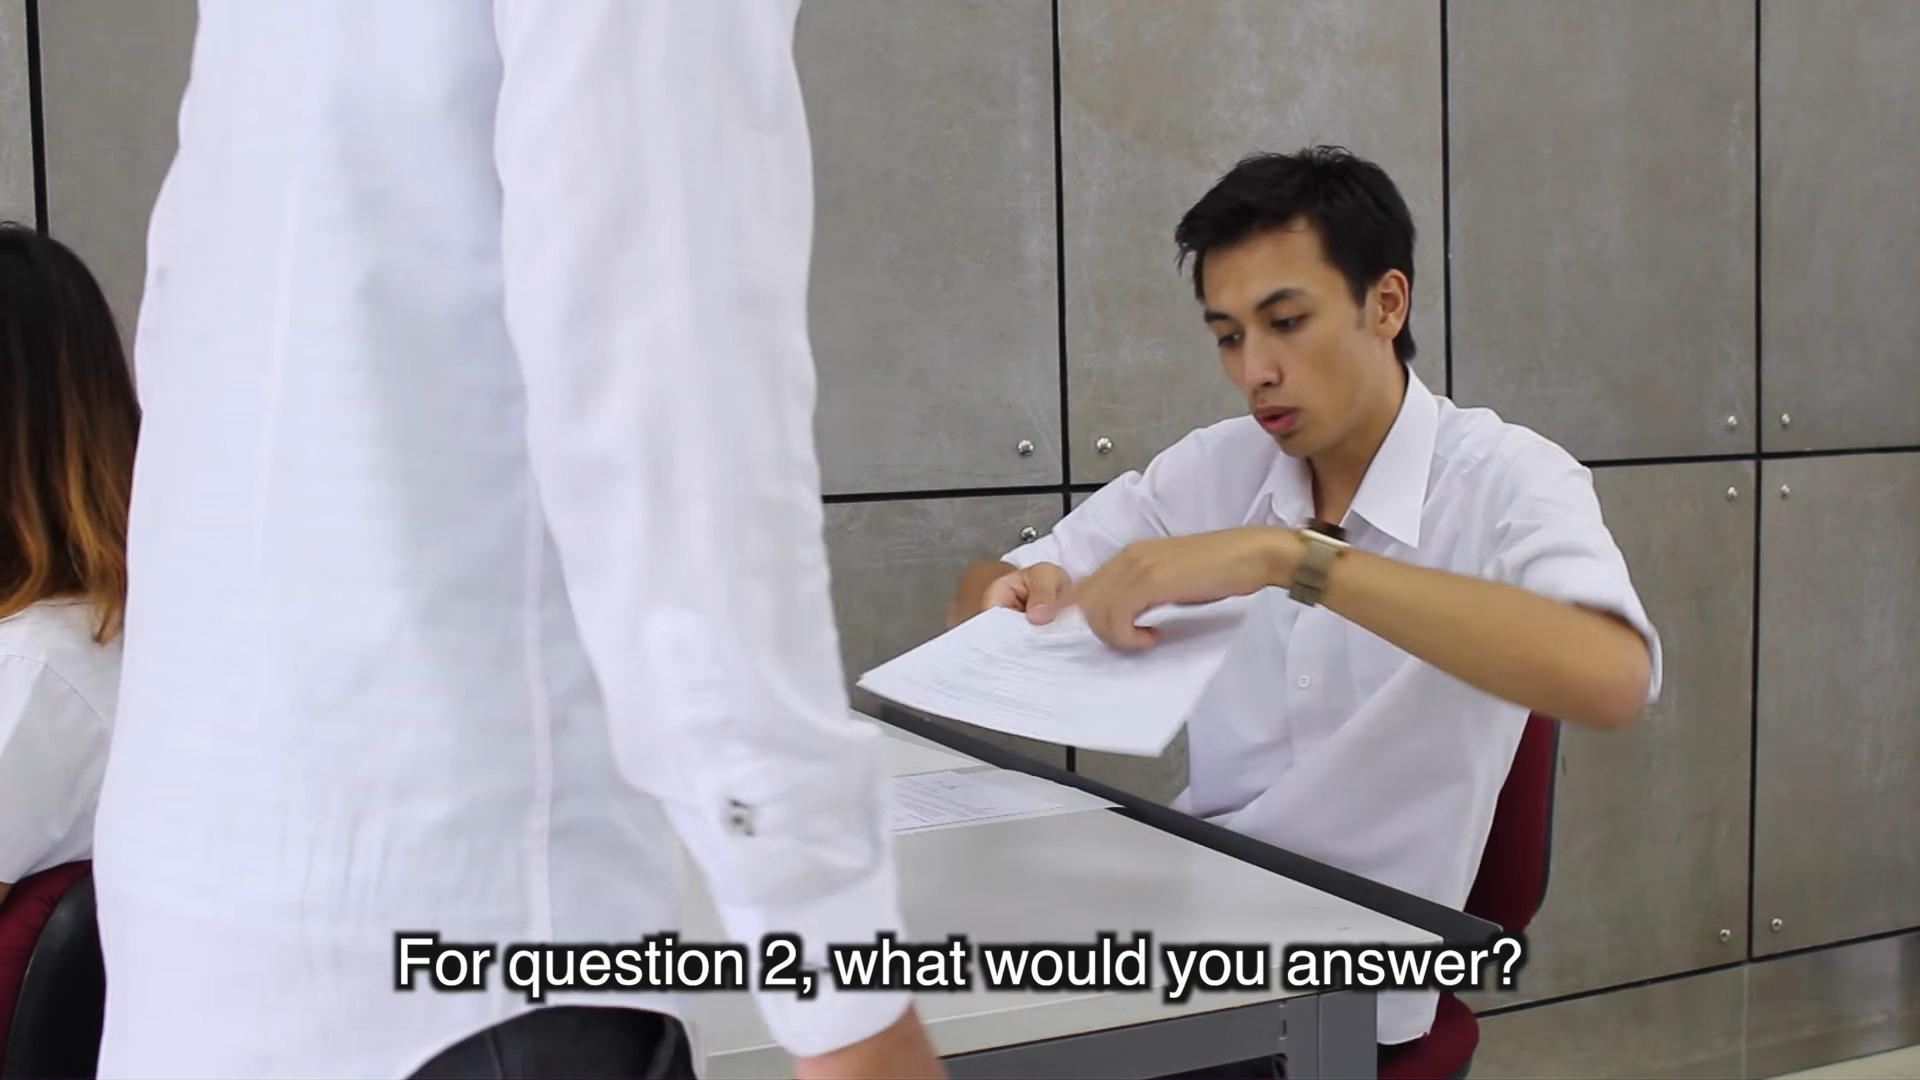good: (835, 131, 1701, 922)
